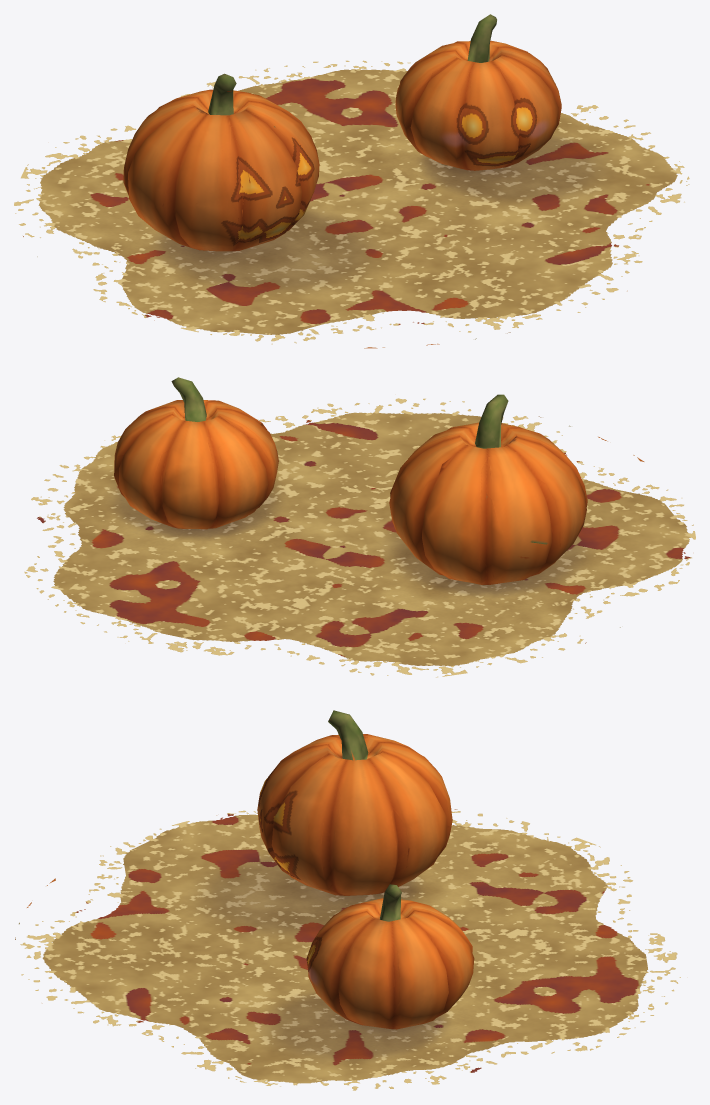
File: HW_DiscoFringe.glb
3 views of the same model, one above another, from view 1: azimuth 30°, elevation 25°; view 2: azimuth 150°, elevation 25°; view 3: azimuth 270°, elevation 25° (orthographic).
Parts seen in each view (by area): view 1: GroundHint, Jack_A, Jack_B; view 2: GroundHint, Jack_A, Jack_B; view 3: GroundHint, Jack_A, Jack_B.
Part boxes in pixels (box(x1,y1,x2,y2)): GroundHint: box(14, 60, 689, 348); Jack_A: box(123, 73, 319, 251); Jack_B: box(395, 14, 561, 170); GroundHint: box(24, 398, 695, 677); Jack_A: box(389, 394, 587, 584); Jack_B: box(114, 377, 278, 529); GroundHint: box(15, 809, 680, 1090); Jack_A: box(257, 710, 452, 895); Jack_B: box(306, 884, 474, 1029).
Size of the model in its own units: 2.3 by 0.6362 by 2.3.
Materials: 2 (2 with a texture image).
